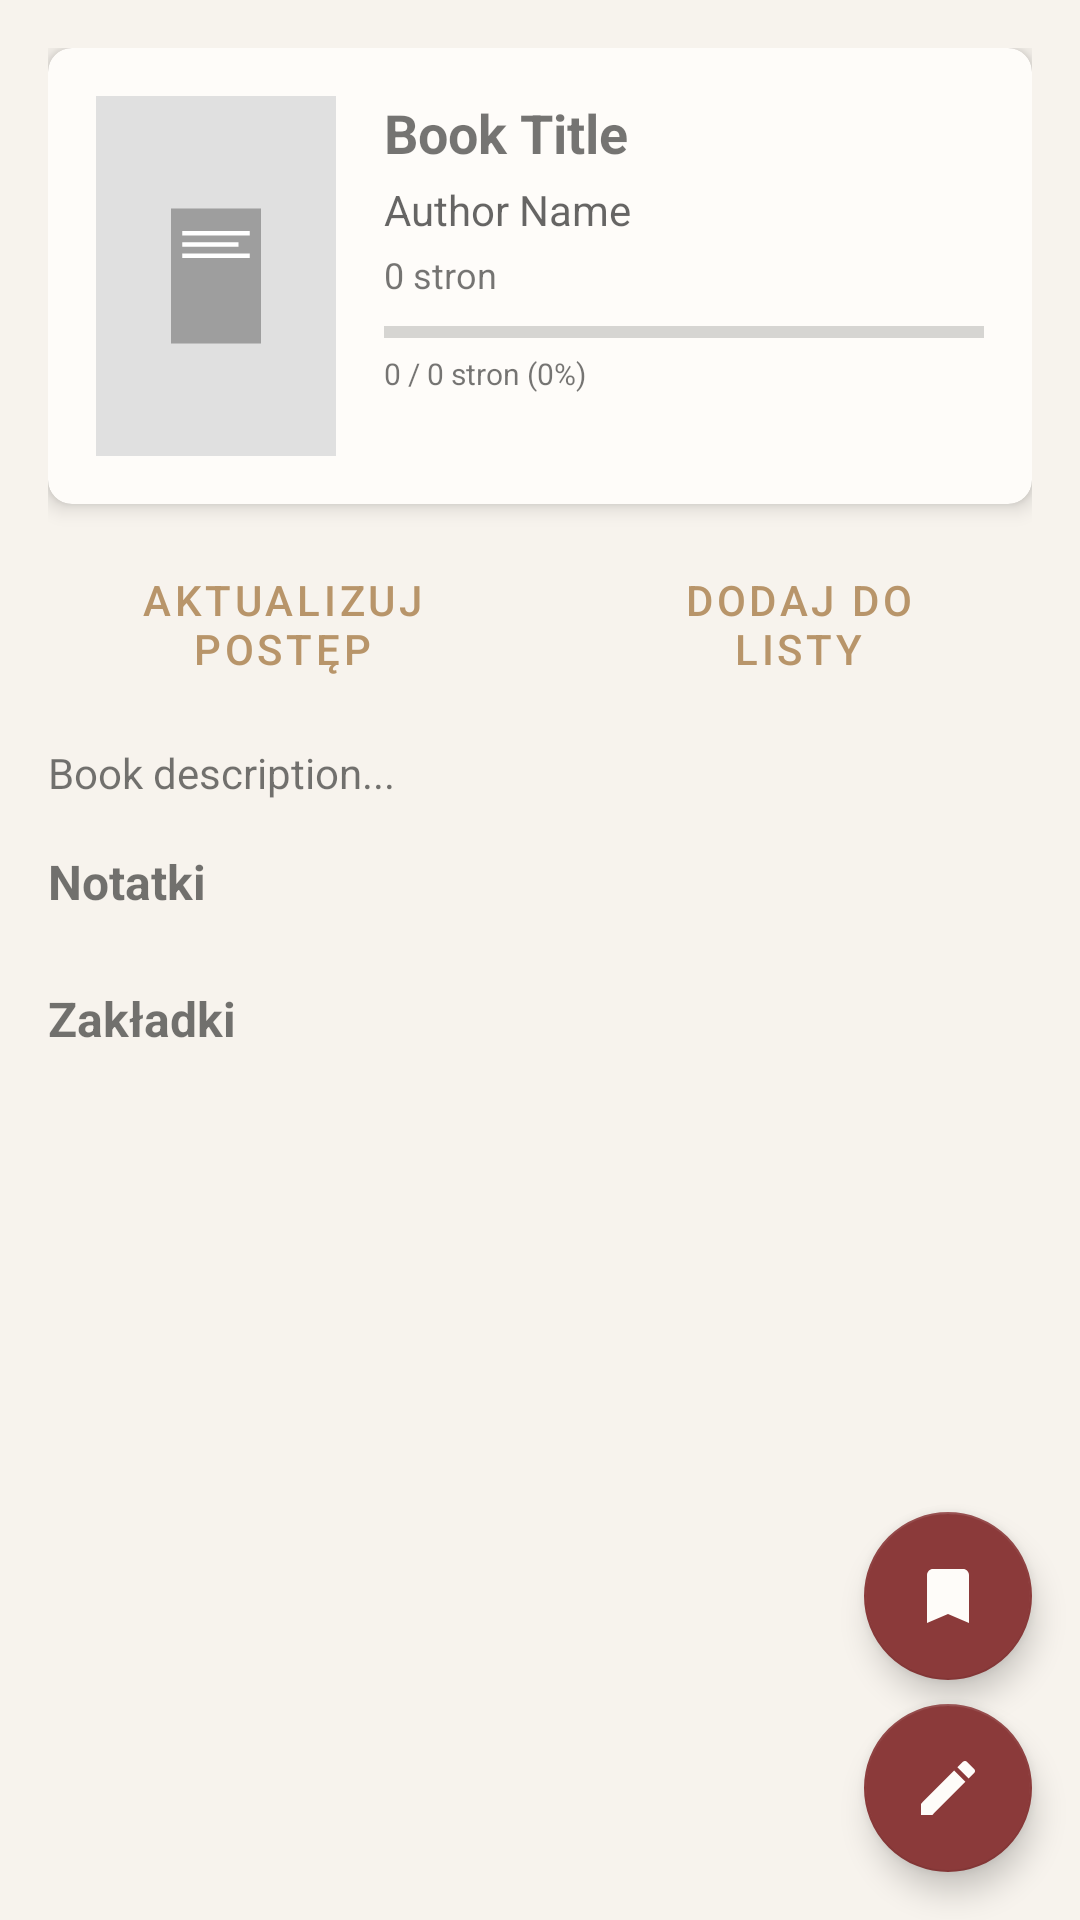

Icon bounding boxes for this 1080 × 1920 phone screenshot, format (x1, y1, x2, y2):
bookmark: (864, 1512, 1032, 1680)
